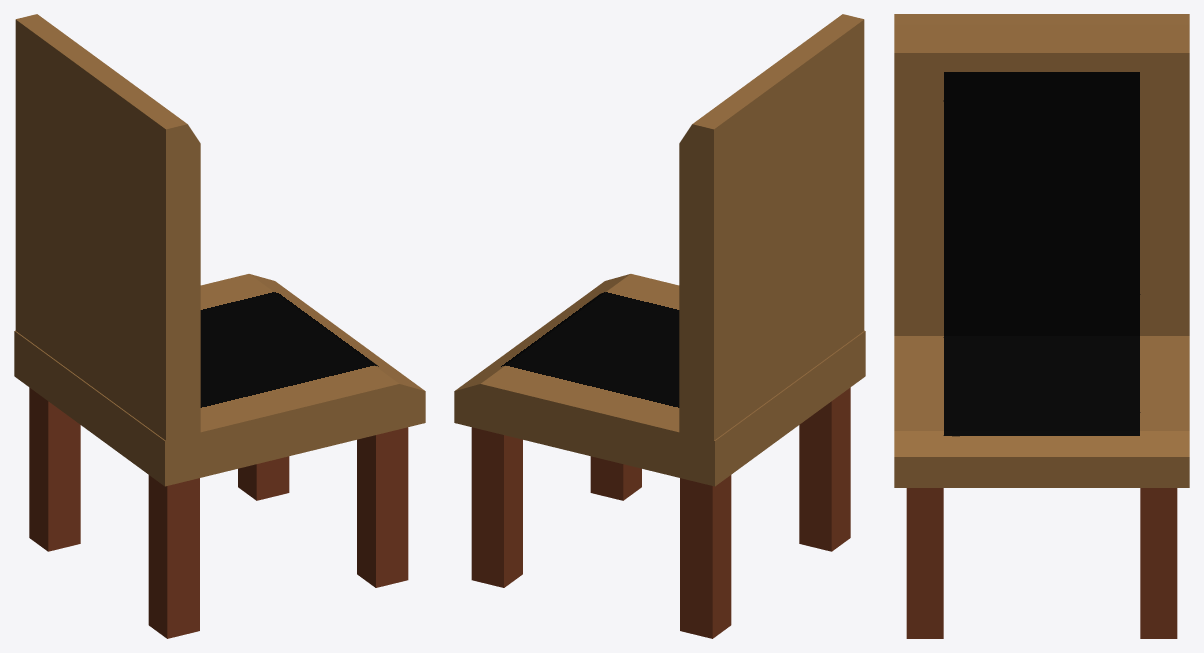
File: Chair.gltf
3 renders of one model, left to right at view 1: azimuth 30°, elevation 25°; view 2: azimuth 150°, elevation 25°; view 3: azimuth 270°, elevation 25°, orthographic.
Parts seen in each view (by area): view 1: cuboid (×6); view 2: cuboid (×6); view 3: cuboid (×4).
Part boxes in pixels (box(x1,y1,x2,y2)): cuboid (×6): box(14, 14, 425, 638); cuboid (×6): box(454, 14, 865, 638); cuboid (×4): box(894, 14, 1189, 638).
Size of the model in its own units: 0.375 by 0.7094 by 0.375.
1 material, 1 textured.
